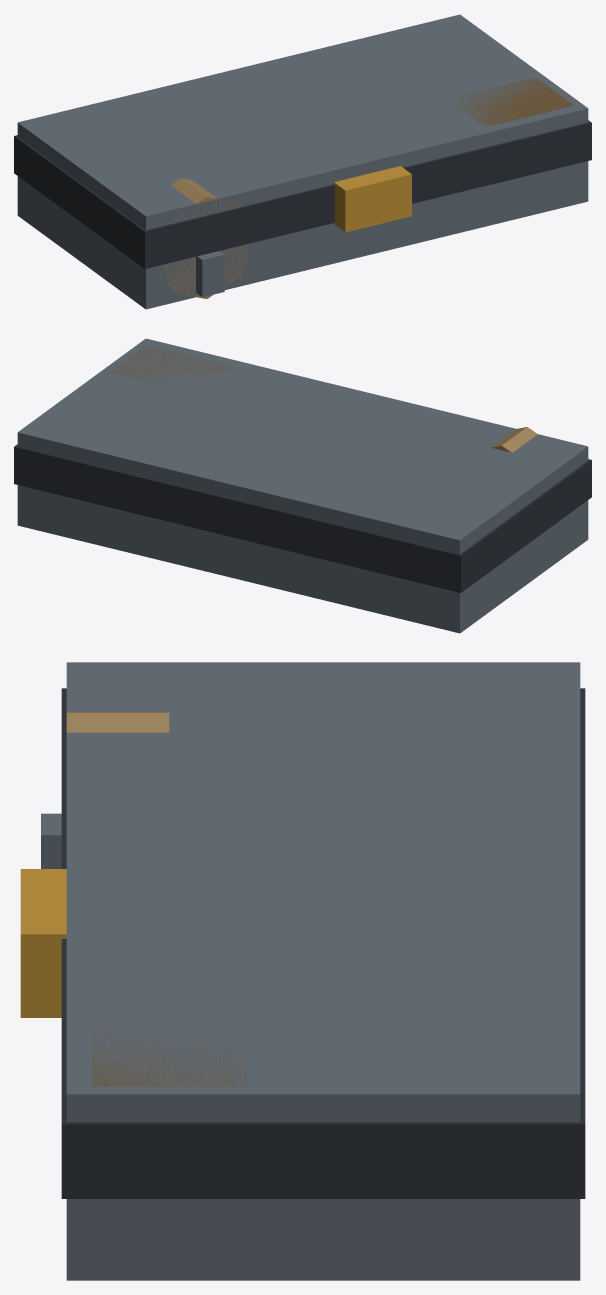
Rendered from pc_k9_lower_torso.fbx.
The picture shows the model from 3 angles, top to bottom: view 1: azimuth 30°, elevation 25°; view 2: azimuth 150°, elevation 25°; view 3: azimuth 270°, elevation 25°; orthographic projection. The views are drawn at different scales.
Parts seen in each view (by area): view 1: pc_k9_lower_torso; view 2: pc_k9_lower_torso; view 3: pc_k9_lower_torso.
Boxes of the visible parts, bbox=[...] form: pc_k9_lower_torso: bbox=[14, 14, 591, 309]; pc_k9_lower_torso: bbox=[14, 338, 591, 633]; pc_k9_lower_torso: bbox=[20, 662, 585, 1280].
Bounding box in the file's own units: 201 × 44 × 110.
